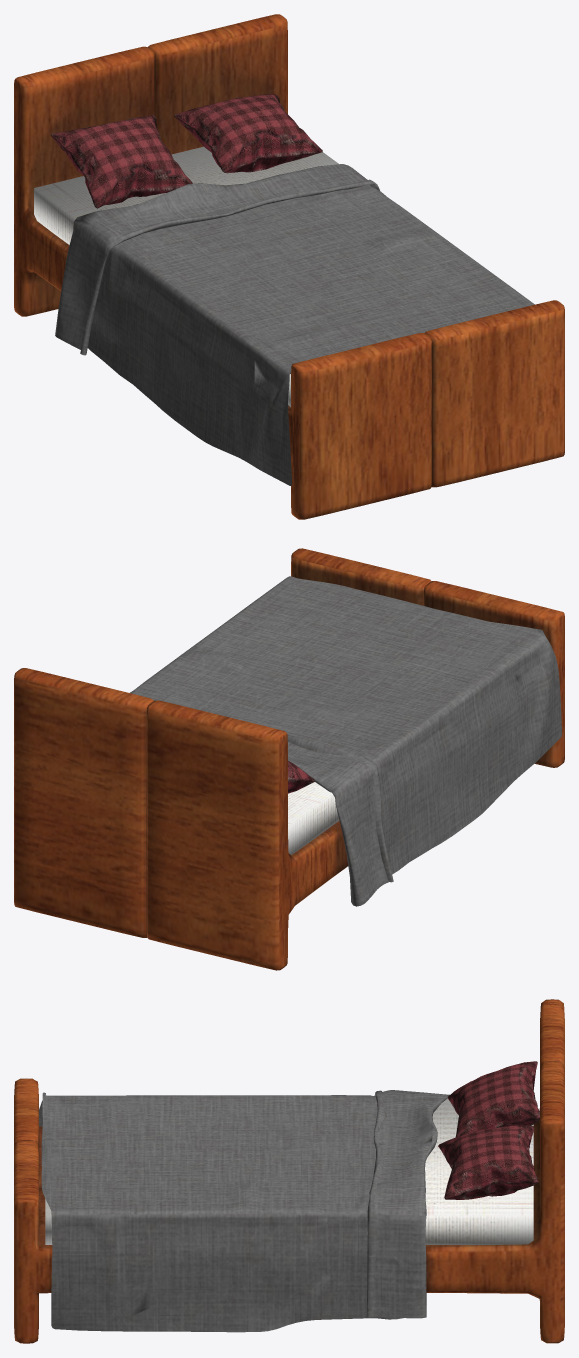
File: BED_4.glb
3 renders of one model, top to bottom at view 1: azimuth 30°, elevation 25°; view 2: azimuth 150°, elevation 25°; view 3: azimuth 270°, elevation 25°, orthographic. The views are drawn at different scales.
Parts seen in each view (by area): view 1: defaultMaterial.003; view 2: defaultMaterial.003; view 3: defaultMaterial.003.
Part boxes in pixels (x1,y1,x2,y2): defaultMaterial.003: [14, 14, 564, 519]; defaultMaterial.003: [14, 548, 564, 970]; defaultMaterial.003: [14, 999, 564, 1343].
Size of the model in its own units: 0.9867 by 0.7247 by 1.63.
Materials: 5 (5 with a texture image).
